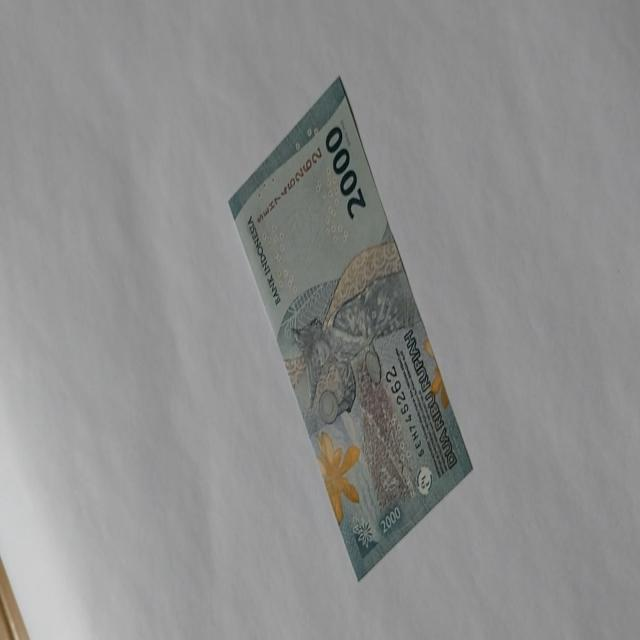dua ribu rupiah: (227, 74, 473, 580), (280, 238, 454, 534)
